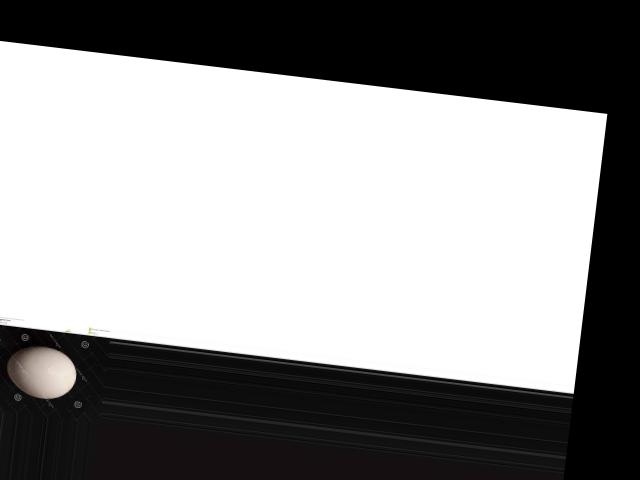egg: (4, 342, 80, 401)
